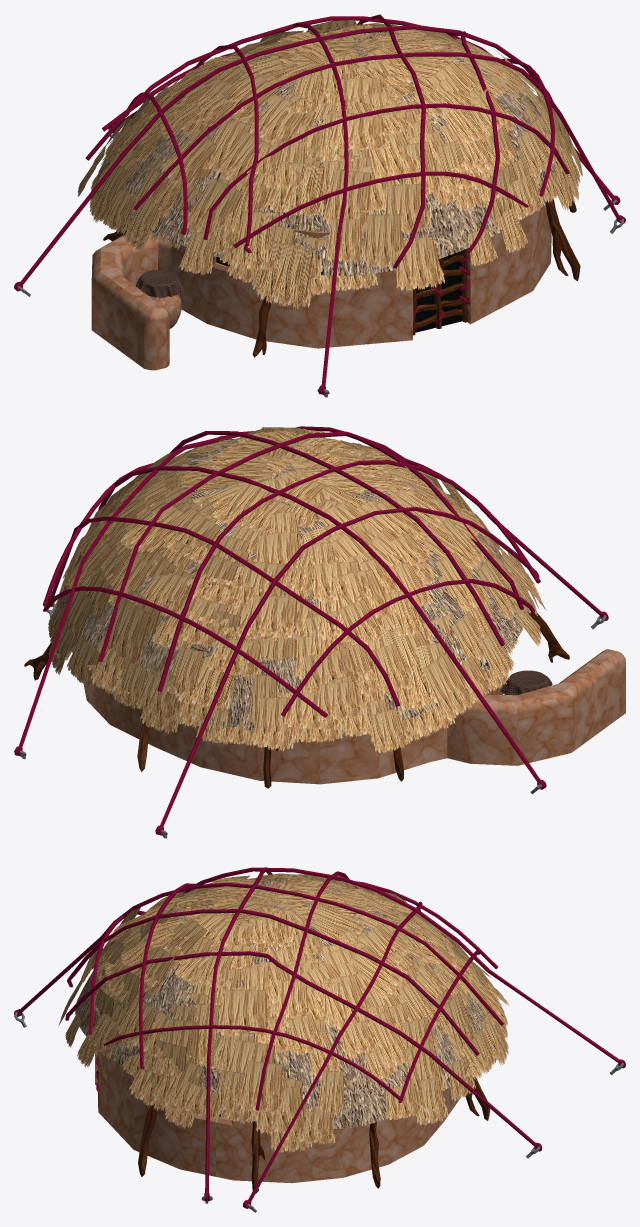
Rendered from Hut.fbx.
3 renders of one model, top to bottom at view 1: azimuth 30°, elevation 25°; view 2: azimuth 150°, elevation 25°; view 3: azimuth 270°, elevation 25°, orthographic. The views are drawn at different scales.
Visible parts, largest first — view 1: Hut1; view 2: Hut1; view 3: Hut1.
Boxes of the visible parts, x1,y1,x2,y2 form: Hut1: [14, 14, 625, 397]; Hut1: [14, 426, 625, 838]; Hut1: [14, 867, 625, 1212].
Size of the model in its own units: 1769 by 693 by 1824.
10 materials, 6 textured.
